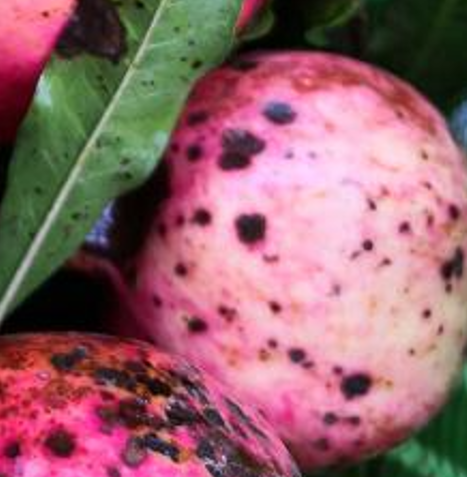pomegranate_C: (68, 45, 467, 467)
